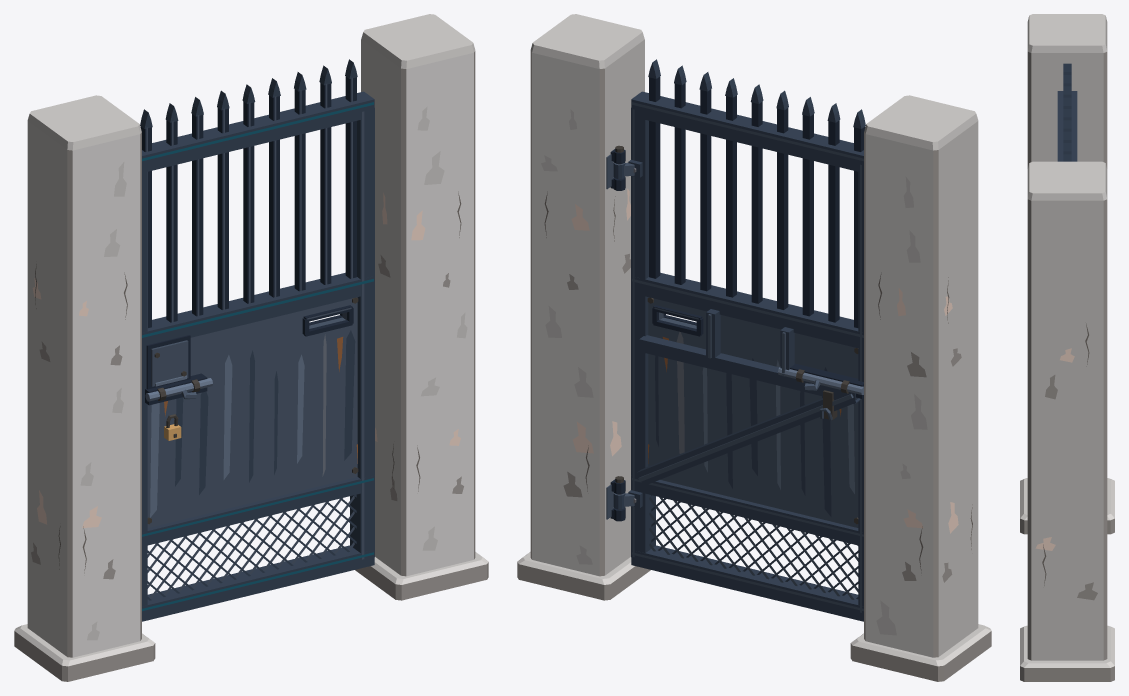
The model's file is gate-village.glb.
3 views of the same model, side by side, from view 1: azimuth 30°, elevation 25°; view 2: azimuth 150°, elevation 25°; view 3: azimuth 270°, elevation 25° (orthographic). The views are drawn at different scales.
Parts seen in each view (by area): view 1: Gate 06 - Concrete Frame and Hardware, Gate 06 - Swing Leaf; view 2: Gate 06 - Concrete Frame and Hardware, Gate 06 - Swing Leaf; view 3: Gate 06 - Concrete Frame and Hardware, Gate 06 - Swing Leaf.
Part boxes in pixels (<box>): Gate 06 - Concrete Frame and Hardware: <box>14,14,488,681</box>; Gate 06 - Swing Leaf: <box>140,59,374,621</box>; Gate 06 - Concrete Frame and Hardware: <box>517,14,991,681</box>; Gate 06 - Swing Leaf: <box>613,59,865,621</box>; Gate 06 - Concrete Frame and Hardware: <box>1020,14,1114,681</box>; Gate 06 - Swing Leaf: <box>1057,63,1077,161</box>.
Bounding box in the file's own units: 2.38 × 2.84 × 0.505.
Materials: 1 (1 with a texture image).
